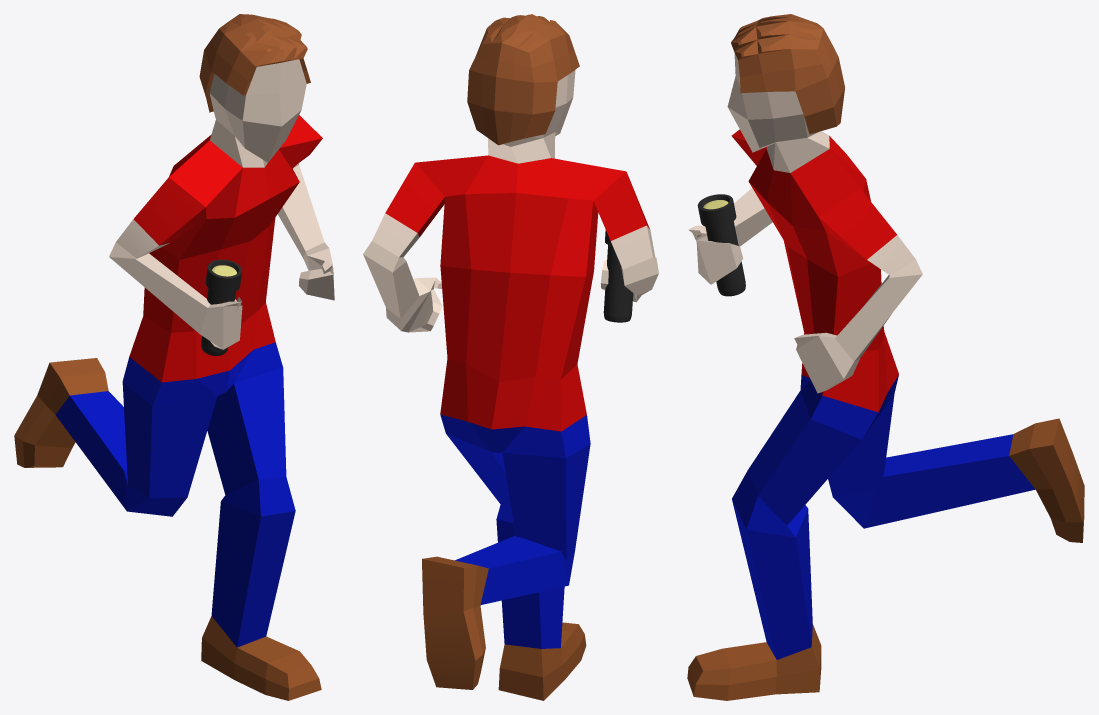
The model's file is Human_running_9.fbx.
3 renders of one model, left to right at view 1: azimuth 30°, elevation 25°; view 2: azimuth 150°, elevation 25°; view 3: azimuth 270°, elevation 25°, orthographic. The views are drawn at different scales.
Visible parts, largest first — view 1: Person.004, Flashlight; view 2: Person.004, Flashlight; view 3: Person.004, Flashlight.
Boxes of the visible parts, x1,y1,x2,y2 form: Person.004: [14, 14, 334, 700]; Flashlight: [201, 259, 241, 355]; Person.004: [363, 14, 658, 700]; Flashlight: [603, 230, 633, 322]; Person.004: [687, 14, 1084, 700]; Flashlight: [697, 194, 745, 296].
Bounding box in the file's own units: 0.6056 × 1.52 × 0.8174.
